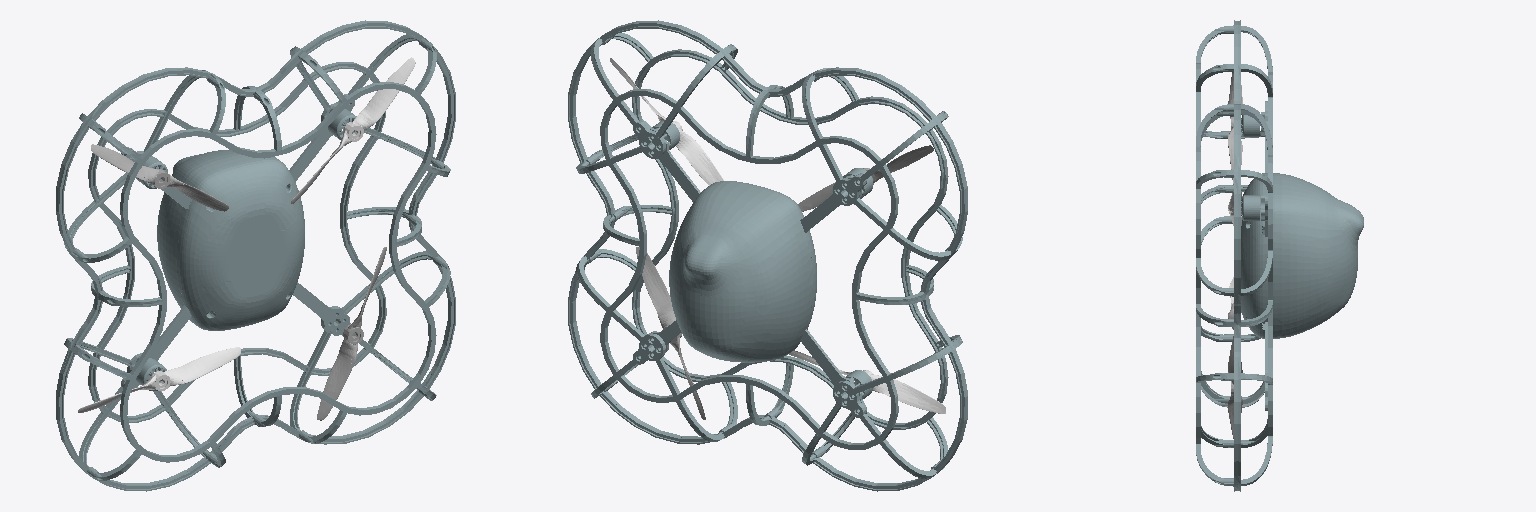
robot.urdf — indoor Urdf:
<?xml version="1.0" encoding="utf-8"?>
<!-- This URDF was automatically created by SolidWorks to URDF Exporter! Originally created by Stephen Brawner (brawner@gmail.com) 
     Commit Version: 1.6.0-4-g7f85cfe  Build Version: 1.6.7995.38578
     For more information, please see http://wiki.ros.org/sw_urdf_exporter -->
<robot
  name="indoor Urdf">
  <link
    name="base_link">
    <inertial>
      <origin
        xyz="-0.00028325 0.0051273 0.00094497"
        rpy="0 0 0" />
      <mass
        value="0.13062" />
      <inertia
        ixx="0.00025135"
        ixy="1.9283E-11"
        ixz="-7.0211E-08"
        iyy="0.00045931"
        iyz="5.5599E-07"
        izz="0.00022644" />
    </inertial>
    <visual>
      <origin
        xyz="0 0 0"
        rpy="0 0 0" />
      <geometry>
        <mesh
          filename="package://indoor Urdf/meshes/base_link.STL" />
      </geometry>
      <material
        name="">
        <color
          rgba="0.59216 0.66667 0.68235 1" />
      </material>
    </visual>
    <collision>
      <origin
        xyz="0 0 0"
        rpy="0 0 0" />
      <geometry>
        <mesh
          filename="package://indoor Urdf/meshes/base_link.STL" />
      </geometry>
    </collision>
  </link>
  <link
    name="Link 1">
    <inertial>
      <origin
        xyz="-0.060002 -0.017895 0.06"
        rpy="0 0 0" />
      <mass
        value="0.0012256" />
      <inertia
        ixx="1.4864E-07"
        ixy="-9.9767E-12"
        ixz="2.1689E-07"
        iyy="4.8751E-07"
        iyz="4.5003E-12"
        izz="3.4621E-07" />
    </inertial>
    <visual>
      <origin
        xyz="0 0 0"
        rpy="0 0 0" />
      <geometry>
        <mesh
          filename="package://indoor Urdf/meshes/Link 1.STL" />
      </geometry>
      <material
        name="">
        <color
          rgba="0.70196 0.70196 0.70196 1" />
      </material>
    </visual>
    <collision>
      <origin
        xyz="0 0 0"
        rpy="0 0 0" />
      <geometry>
        <mesh
          filename="package://indoor Urdf/meshes/Link 1.STL" />
      </geometry>
    </collision>
  </link>
  <joint
    name="Prop1"
    type="revolute">
    <origin
      xyz="0 0 0"
      rpy="0 0 0" />
    <parent
      link="base_link" />
    <child
      link="Link 1" />
    <axis
      xyz="0 -1 0" />
    <limit
      lower="0"
      upper="0"
      effort="0"
      velocity="0" />
  </joint>
  <link
    name="Link 2">
    <inertial>
      <origin
        xyz="-0.059998 -0.017895 -0.06"
        rpy="0 0 0" />
      <mass
        value="0.0012256" />
      <inertia
        ixx="1.4744E-08"
        ixy="1.1173E-11"
        ixz="-5.1566E-08"
        iyy="4.875E-07"
        iyz="-6.2373E-13"
        izz="4.8009E-07" />
    </inertial>
    <visual>
      <origin
        xyz="0 0 0"
        rpy="0 0 0" />
      <geometry>
        <mesh
          filename="package://indoor Urdf/meshes/Link 2.STL" />
      </geometry>
      <material
        name="">
        <color
          rgba="0.89412 0.89412 0.89412 1" />
      </material>
    </visual>
    <collision>
      <origin
        xyz="0 0 0"
        rpy="0 0 0" />
      <geometry>
        <mesh
          filename="package://indoor Urdf/meshes/Link 2.STL" />
      </geometry>
    </collision>
  </link>
  <joint
    name="Prop2"
    type="revolute">
    <origin
      xyz="0 0 0"
      rpy="0 0 0" />
    <parent
      link="base_link" />
    <child
      link="Link 2" />
    <axis
      xyz="0 -1 0" />
    <limit
      lower="0"
      upper="0"
      effort="0"
      velocity="0" />
  </joint>
  <link
    name="Link 3">
    <inertial>
      <origin
        xyz="0.06 -0.017895 -0.060002"
        rpy="0 0 0" />
      <mass
        value="0.0012256" />
      <inertia
        ixx="4.1498E-07"
        ixy="-2.6824E-12"
        ixz="-1.6948E-07"
        iyy="4.8751E-07"
        iyz="-1.0611E-11"
        izz="7.9866E-08" />
    </inertial>
    <visual>
      <origin
        xyz="0 0 0"
        rpy="0 0 0" />
      <geometry>
        <mesh
          filename="package://indoor Urdf/meshes/Link 3.STL" />
      </geometry>
      <material
        name="">
        <color
          rgba="0.70196 0.70196 0.70196 1" />
      </material>
    </visual>
    <collision>
      <origin
        xyz="0 0 0"
        rpy="0 0 0" />
      <geometry>
        <mesh
          filename="package://indoor Urdf/meshes/Link 3.STL" />
      </geometry>
    </collision>
  </link>
  <joint
    name="Prop3"
    type="revolute">
    <origin
      xyz="0 0 0"
      rpy="0 0 0" />
    <parent
      link="base_link" />
    <child
      link="Link 3" />
    <axis
      xyz="0 -1 0" />
    <limit
      lower="0"
      upper="0"
      effort="0"
      velocity="0" />
  </joint>
  <link
    name="Link 4">
    <inertial>
      <origin
        xyz="0.059998 -0.017895 0.059999"
        rpy="0 0 0" />
      <mass
        value="0.0012256" />
      <inertia
        ixx="2.1156E-07"
        ixy="-9.5557E-12"
        ixz="-2.3561E-07"
        iyy="4.875E-07"
        iyz="-5.8047E-12"
        izz="2.8328E-07" />
    </inertial>
    <visual>
      <origin
        xyz="0 0 0"
        rpy="0 0 0" />
      <geometry>
        <mesh
          filename="package://indoor Urdf/meshes/Link 4.STL" />
      </geometry>
      <material
        name="">
        <color
          rgba="0.89412 0.89412 0.89412 1" />
      </material>
    </visual>
    <collision>
      <origin
        xyz="0 0 0"
        rpy="0 0 0" />
      <geometry>
        <mesh
          filename="package://indoor Urdf/meshes/Link 4.STL" />
      </geometry>
    </collision>
  </link>
  <joint
    name="Prop4"
    type="revolute">
    <origin
      xyz="0 0 0"
      rpy="0 0 0" />
    <parent
      link="base_link" />
    <child
      link="Link 4" />
    <axis
      xyz="0 -1 0" />
    <limit
      lower="0"
      upper="0"
      effort="0"
      velocity="0" />
  </joint>
</robot>

--- Render facts (derived) ---
3 views of the same robot in one strip: view 1: azimuth 30°, elevation 25°; view 2: azimuth 150°, elevation 25°; view 3: azimuth 270°, elevation 25° (orthographic).
Model indoor Urdf with 5 links and 4 joints (4 revolute), rooted at base_link, posed all joints at 0.
Links seen in each view (by area): view 1: base_link, Link 3, Link 4, Link 2, Link 1; view 2: base_link, Link 3, Link 4, Link 2, Link 1; view 3: base_link.
Boxes of the visible links, x1,y1,x2,y2 form: base_link: (56,20,455,491); Link 3: (317,247,386,420); Link 4: (291,57,415,203); Link 2: (78,347,240,412); Link 1: (91,144,228,211); base_link: (568,20,967,491); Link 3: (636,247,705,419); Link 4: (610,58,723,185); Link 2: (789,350,945,413); Link 1: (798,145,933,211); base_link: (1196,20,1363,491).
Bounding box of the posed robot: 0.2466 × 0.1023 × 0.2466 m (x, y, z).
Meshes: 5 distinct files referenced, 5 mesh visuals loaded (5 binary STL).
